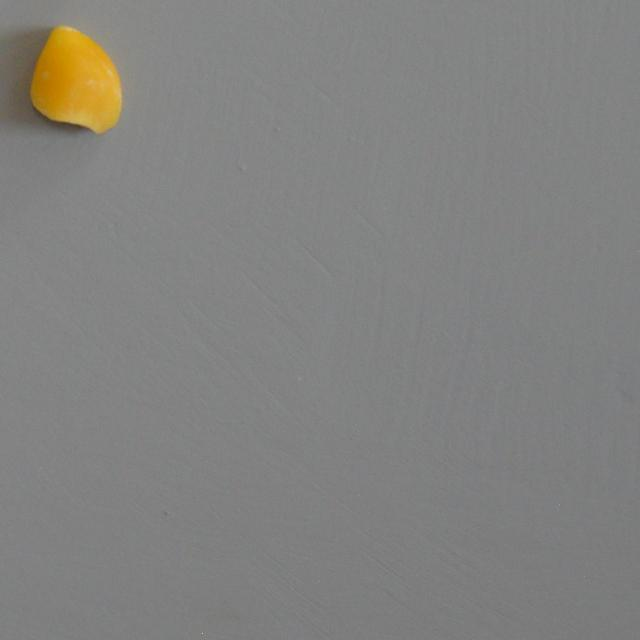estandar: (25, 16, 127, 136)
